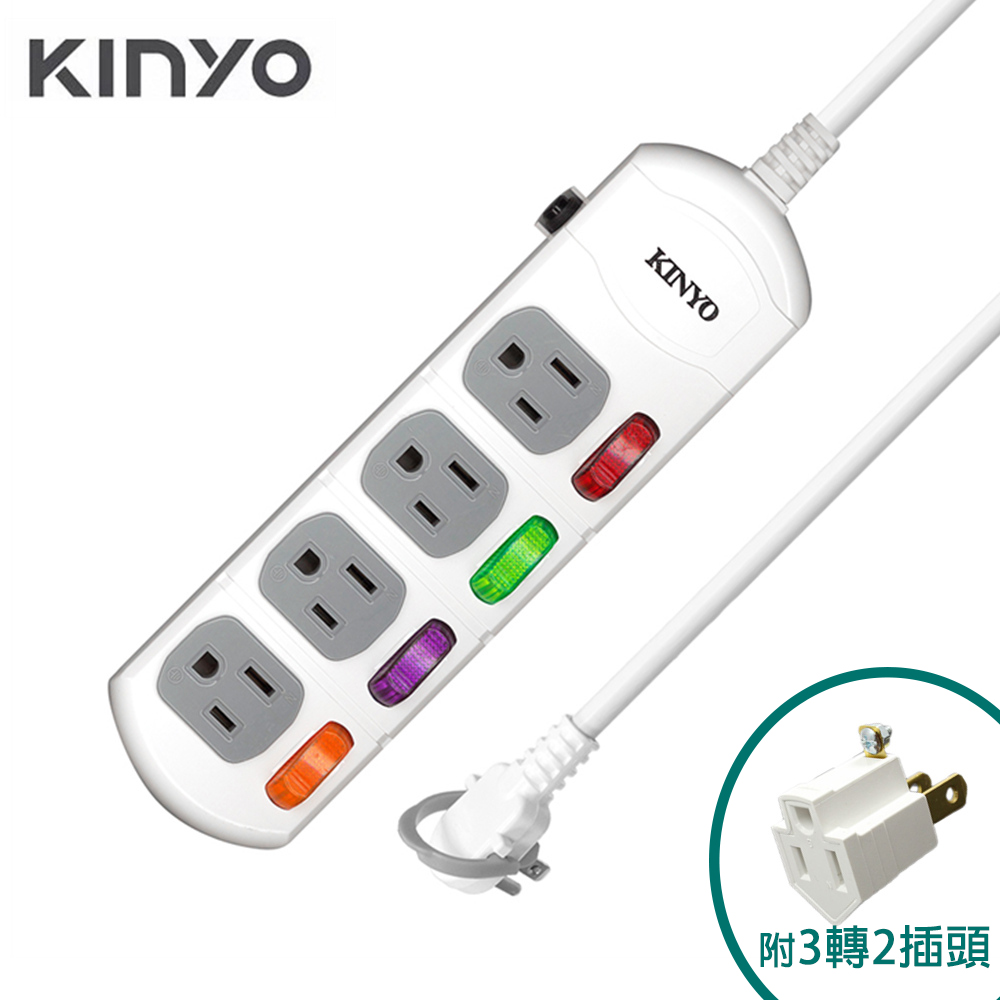socket: (106, 104, 842, 851)
